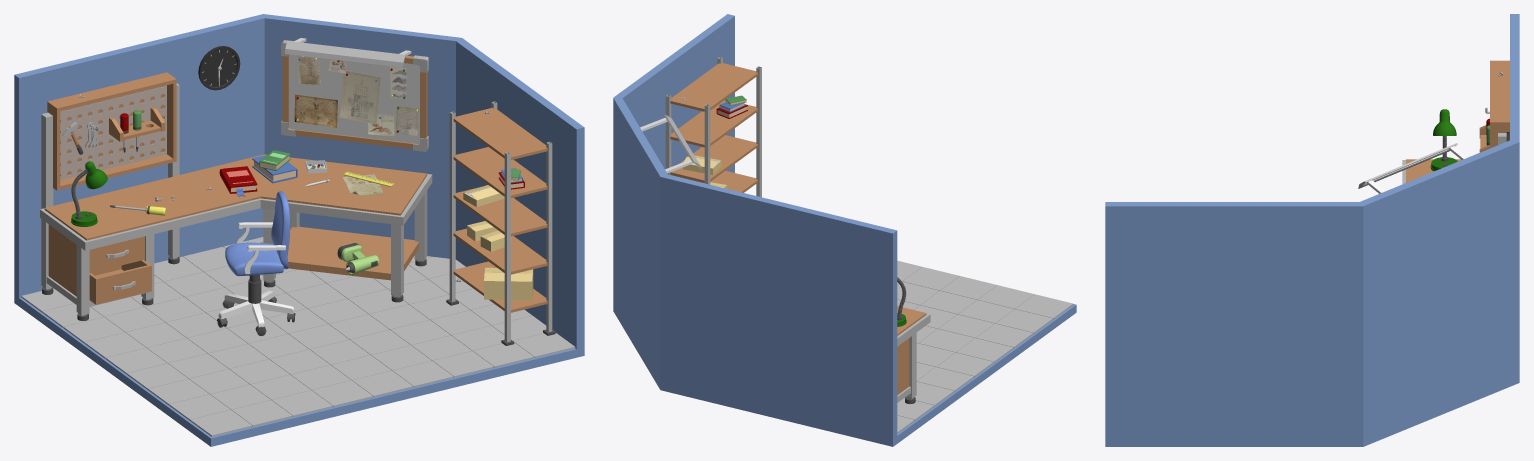
Rendered from workplace.fbx.
3 views of the same model, side by side, from view 1: azimuth 30°, elevation 25°; view 2: azimuth 150°, elevation 25°; view 3: azimuth 270°, elevation 25° (orthographic). The views are drawn at different scales.
Parts seen in each view (by area): view 1: Plane.001, Plane.012, Cube, Cube.050, Cube.026, Plane.011, Plane, Cube.005, Cube.049, Cube.001, Cube.002, Cube.004 (+21 smaller); view 2: Plane.001, Plane.012, Cube.050, Plane.011, Cube.049, Cube, Cube.008, Cube.006; view 3: Plane.001, Plane.011, Cube.005, Cube, Cube.046, Cylinder.010.
Boxes of the visible parts, x1=… form: Plane.001: x1=14, y1=14, x2=584, y2=349; Plane.012: x1=21, y1=237, x2=575, y2=436; Cube: x1=40, y1=154, x2=432, y2=250; Cube.050: x1=453, y1=108, x2=547, y2=312; Cube.026: x1=282, y1=54, x2=427, y2=149; Plane.011: x1=14, y1=295, x2=584, y2=446; Plane: x1=60, y1=85, x2=166, y2=180; Cube.005: x1=47, y1=72, x2=176, y2=190; Cube.049: x1=446, y1=101, x2=555, y2=345; Cube.001: x1=287, y1=226, x2=419, y2=280; Cube.002: x1=41, y1=83, x2=179, y2=289; Cube.004: x1=263, y1=190, x2=427, y2=297; Plane.001: x1=613, y1=14, x2=897, y2=438; Plane.012: x1=897, y1=260, x2=1073, y2=433; Cube.050: x1=670, y1=63, x2=757, y2=192; Plane.011: x1=613, y1=304, x2=1076, y2=446; Cube.049: x1=665, y1=57, x2=761, y2=197; Cube: x1=897, y1=306, x2=930, y2=346; Cube.008: x1=897, y1=338, x2=909, y2=394; Cube.006: x1=906, y1=332, x2=916, y2=399; Plane.001: x1=1105, y1=14, x2=1519, y2=437; Plane.011: x1=1105, y1=374, x2=1519, y2=446; Cube.005: x1=1490, y1=60, x2=1509, y2=148; Cube: x1=1402, y1=159, x2=1461, y2=184; Cube.046: x1=1358, y1=143, x2=1457, y2=188; Cylinder.010: x1=1433, y1=109, x2=1456, y2=135.
Bounding box in the file's own units: 492 × 287 × 448.
